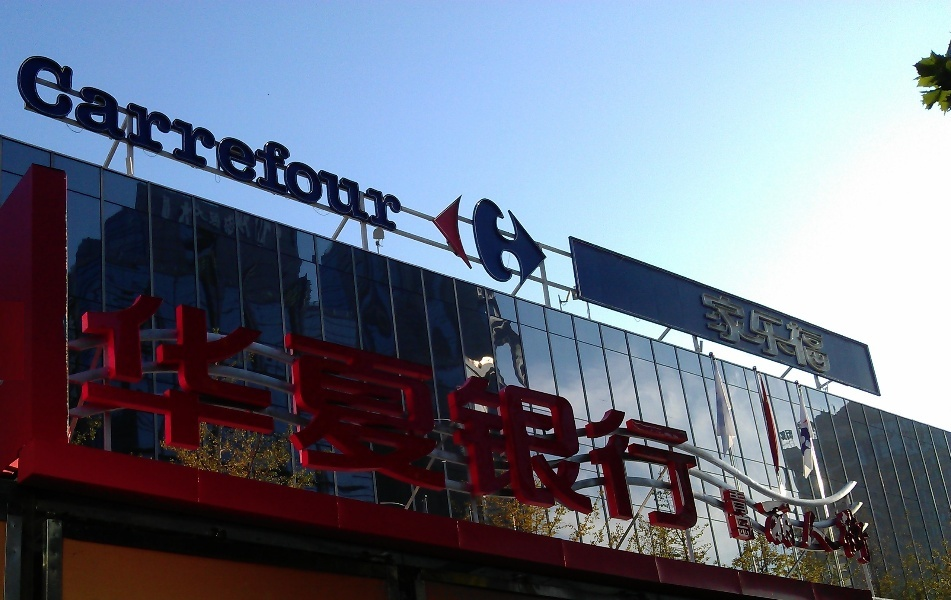text: (81, 273, 96, 538), (97, 273, 112, 538), (113, 273, 128, 538), (129, 273, 144, 538), (145, 273, 160, 538), (161, 273, 176, 538), (177, 273, 192, 538), (193, 273, 208, 538), (209, 273, 224, 538), (225, 273, 240, 538), (241, 273, 256, 538), (257, 273, 272, 538), (273, 273, 288, 538), (289, 273, 304, 538), (305, 273, 320, 538), (321, 273, 336, 538), (337, 273, 352, 538), (353, 273, 368, 538), (369, 273, 384, 538), (385, 273, 400, 538), (401, 273, 416, 538), (417, 273, 432, 538), (433, 273, 448, 538), (449, 273, 464, 538), (465, 273, 480, 538), (481, 273, 496, 538), (497, 273, 512, 538), (513, 273, 528, 538), (529, 273, 544, 538), (545, 273, 560, 538), (561, 273, 576, 538), (577, 273, 592, 538), (593, 273, 608, 538), (609, 273, 624, 538), (625, 273, 640, 538), (641, 273, 656, 538), (657, 273, 672, 538), (673, 273, 688, 538), (689, 273, 704, 538), (17, 45, 32, 238), (33, 45, 48, 238), (49, 45, 64, 238), (65, 45, 80, 238), (81, 45, 96, 238), (97, 45, 112, 238), (113, 45, 128, 238), (129, 45, 144, 238), (145, 45, 160, 238), (161, 45, 176, 238), (177, 45, 192, 238), (193, 45, 208, 238), (209, 45, 224, 238), (225, 45, 240, 238), (241, 45, 256, 238), (257, 45, 272, 238), (273, 45, 288, 238), (289, 45, 304, 238), (305, 45, 320, 238), (321, 45, 336, 238), (337, 45, 352, 238), (353, 45, 368, 238), (369, 45, 384, 238), (385, 45, 400, 238), (705, 273, 711, 538), (705, 285, 720, 379), (721, 285, 736, 379), (737, 285, 752, 379), (753, 285, 768, 379), (769, 285, 784, 379), (785, 285, 800, 379), (801, 285, 816, 379), (817, 285, 832, 379), (753, 496, 768, 566), (769, 496, 784, 566), (785, 496, 800, 566), (801, 496, 816, 566), (817, 496, 832, 566), (833, 496, 848, 566), (849, 496, 864, 566), (865, 496, 879, 566), (721, 488, 736, 541), (737, 488, 752, 541), (401, 45, 405, 238), (697, 285, 704, 379), (833, 285, 836, 379), (79, 273, 80, 538), (753, 488, 755, 541), (751, 496, 752, 566)
